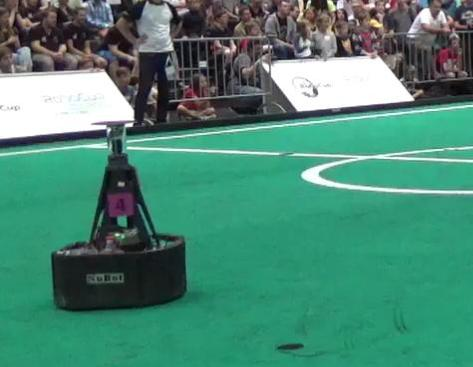robot: (46, 119, 196, 312)
